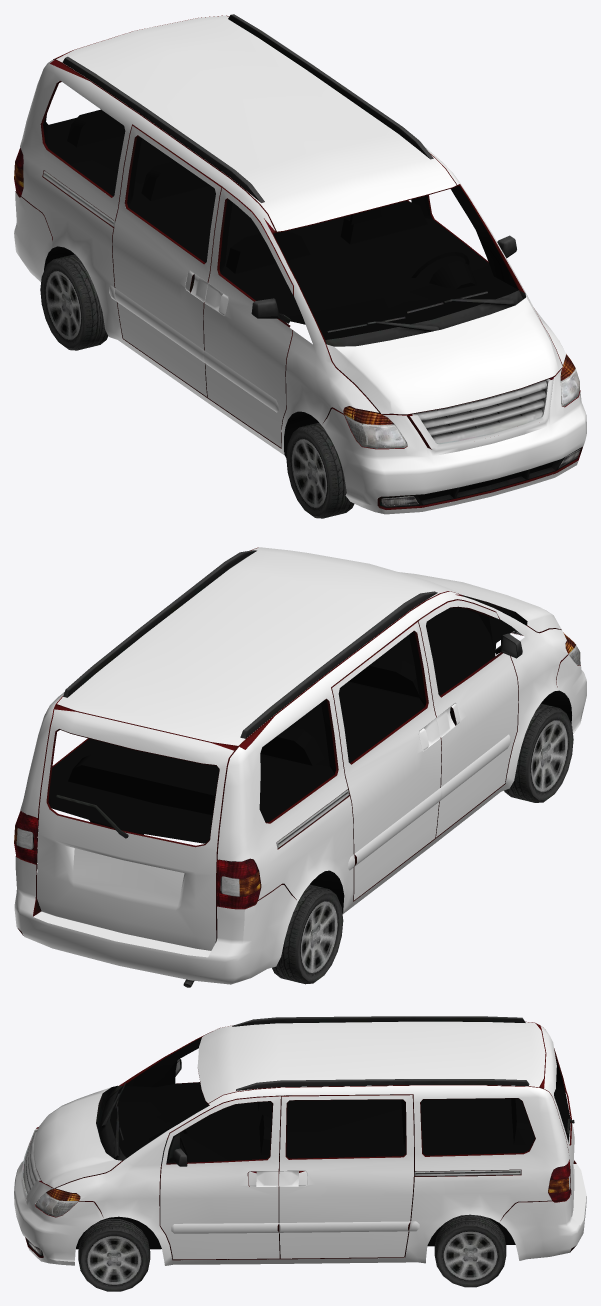
File: traffic-van-white.glb
3 views of the same model, one above another, from view 1: azimuth 30°, elevation 25°; view 2: azimuth 150°, elevation 25°; view 3: azimuth 270°, elevation 25° (orthographic). The views are drawn at different scales.
Visible parts, largest first — view 1: Object_322, Object_18, Object_520, Object_532; view 2: Object_322, Object_18, Object_520, Object_532; view 3: Object_322, Object_18, Object_520, Object_532.
Part boxes in pixels (x1=…): Object_322: x1=14, y1=15, x2=586, y2=514; Object_18: x1=15, y1=14, x2=582, y2=509; Object_520: x1=40, y1=254, x2=354, y2=518; Object_532: x1=14, y1=148, x2=580, y2=505; Object_322: x1=14, y1=547, x2=586, y2=984; Object_18: x1=15, y1=547, x2=580, y2=987; Object_520: x1=272, y1=703, x2=573, y2=984; Object_532: x1=14, y1=632, x2=580, y2=908; Object_322: x1=14, y1=1021, x2=586, y2=1265; Object_18: x1=22, y1=1016, x2=576, y2=1260; Object_520: x1=78, y1=1170, x2=506, y2=1291; Object_532: x1=28, y1=1160, x2=570, y2=1254.
Bounding box in the file's own units: 0.1369 × 0.1286 × 0.3375.
Materials: 4 (3 with a texture image).
